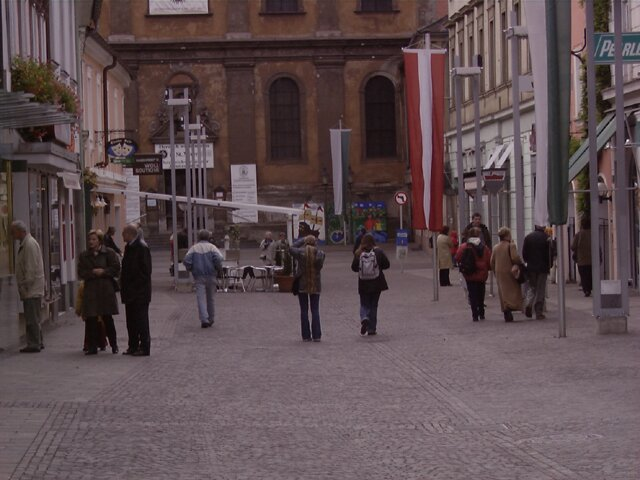person: (115, 223, 164, 357), (282, 232, 331, 346), (350, 234, 397, 343), (456, 226, 498, 324)
